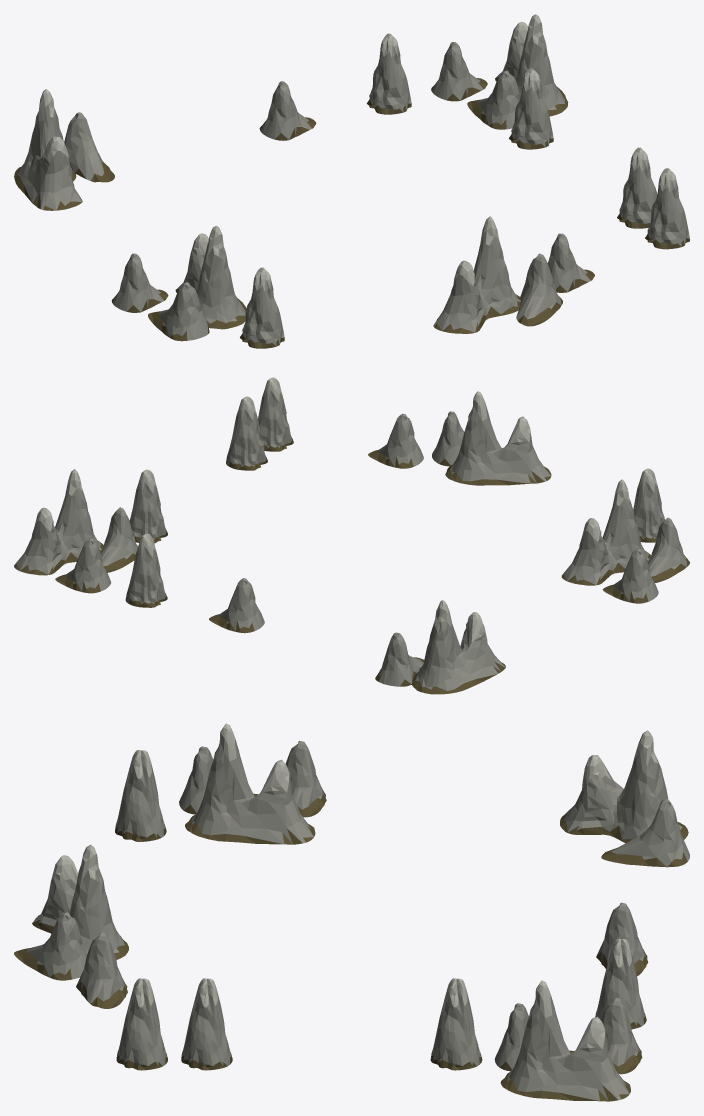
The model's file is mountains.gltf.
3 renders of one model, top to bottom at view 1: azimuth 30°, elevation 25°; view 2: azimuth 150°, elevation 25°; view 3: azimuth 270°, elevation 25°, orthographic. The views are drawn at different scales.
Parts seen in each view (by area): view 1: Mountain_Group_2, Mountain_Group_2.001, Mountain_Group_2.003, Mountain_Group_2.002, MountainLarge_Single.002, MountainLarge_Single.003, MountainLarge_Single.001, MountainLarge_Single, MountainLarge_Single.004, Mountain_Single.003, Mountain_Single.001, Mountain_Single.002 (+1 smaller); view 2: Mountain_Group_2.001, Mountain_Group_2, Mountain_Group_2.003, Mountain_Group_2.002, MountainLarge_Single.003, MountainLarge_Single.004, MountainLarge_Single, MountainLarge_Single.001, Mountain_Single.002, Mountain_Single, Mountain_Single.001, Mountain_Single.003 (+1 smaller); view 3: Mountain_Group_2.001, Mountain_Group_2.003, Mountain_Group_2.002, Mountain_Group_2, MountainLarge_Single.001, MountainLarge_Single.004, MountainLarge_Single, MountainLarge_Single.002, Mountain_Single, MountainLarge_Single.003, Mountain_Single.002, Mountain_Single.001 (+1 smaller).
Boxes of the visible parts, x1,y1,x2,y2 form: Mountain_Group_2: (433, 216, 562, 333); Mountain_Group_2.001: (14, 89, 114, 210); Mountain_Group_2.003: (148, 226, 246, 341); Mountain_Group_2.002: (467, 14, 568, 129); MountainLarge_Single.002: (240, 267, 284, 348); MountainLarge_Single.003: (367, 33, 411, 114); MountainLarge_Single.001: (509, 68, 553, 149); MountainLarge_Single: (645, 168, 689, 249); MountainLarge_Single.004: (617, 147, 657, 228); Mountain_Single.003: (259, 81, 316, 140); Mountain_Single.001: (431, 42, 487, 101); Mountain_Single.002: (111, 253, 168, 312); Mountain_Group_2.001: (375, 600, 505, 694); Mountain_Group_2: (432, 391, 551, 485); Mountain_Group_2.003: (561, 479, 689, 585); Mountain_Group_2.002: (14, 469, 137, 575); MountainLarge_Single.003: (125, 533, 167, 607); MountainLarge_Single.004: (226, 396, 267, 470); MountainLarge_Single: (258, 377, 293, 451); MountainLarge_Single.001: (129, 469, 167, 543); Mountain_Single.002: (602, 548, 658, 603); Mountain_Single: (368, 413, 423, 468); Mountain_Single.001: (55, 538, 111, 593); Mountain_Single.003: (209, 578, 264, 633); Mountain_Group_2.001: (560, 730, 689, 867); Mountain_Group_2.003: (179, 723, 315, 844); Mountain_Group_2.002: (494, 980, 630, 1101); Mountain_Group_2: (14, 844, 128, 980); MountainLarge_Single.001: (430, 978, 482, 1070); MountainLarge_Single.004: (181, 978, 232, 1070); MountainLarge_Single: (116, 978, 167, 1070); MountainLarge_Single.002: (115, 750, 166, 841); Mountain_Single: (76, 932, 127, 1008); MountainLarge_Single.003: (595, 938, 646, 1029); Mountain_Single.002: (285, 741, 326, 817); Mountain_Single.001: (601, 997, 642, 1074).
Size of the model in its own units: 31.78 by 4.89 by 28.91.
